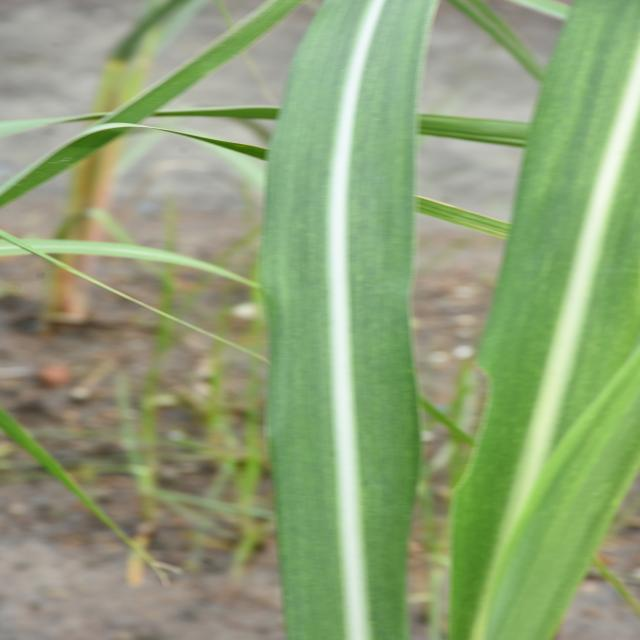Sugarcane: (446, 0, 640, 640), (264, 0, 445, 640)
